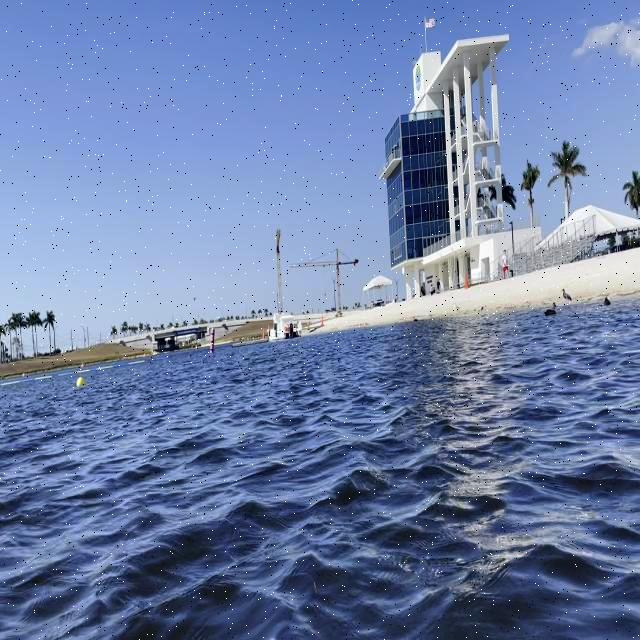buoy: (75, 375, 85, 388)
